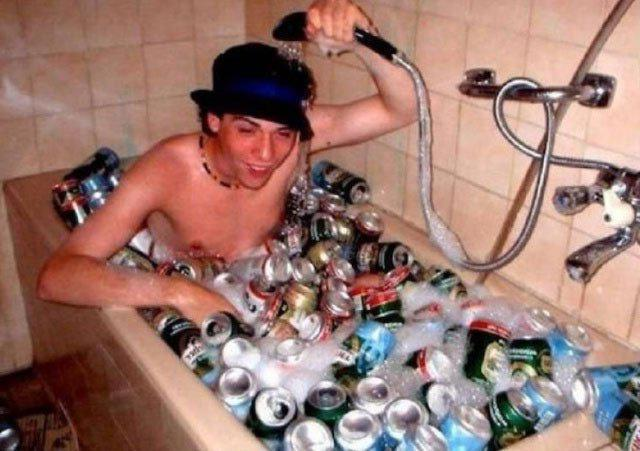Drunk: (233, 116, 292, 193)
